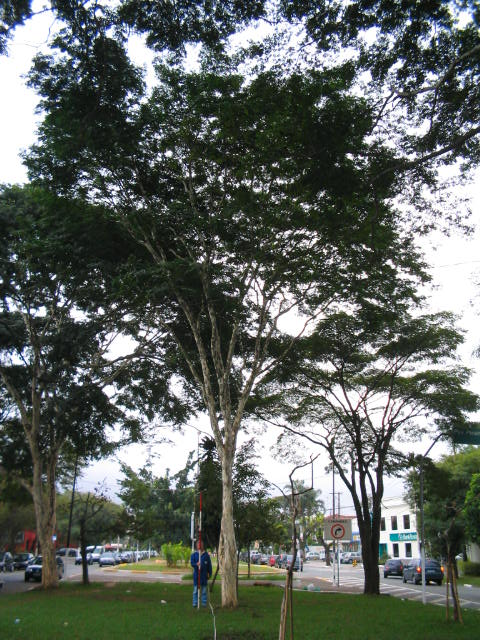crown: (27, 39, 456, 357), (1, 184, 209, 461), (249, 300, 479, 460)
stem: (209, 458, 253, 607), (351, 526, 398, 593), (23, 521, 70, 588)
stick: (191, 494, 206, 609)
tree: (22, 38, 460, 607), (1, 184, 211, 590), (245, 301, 480, 594)
